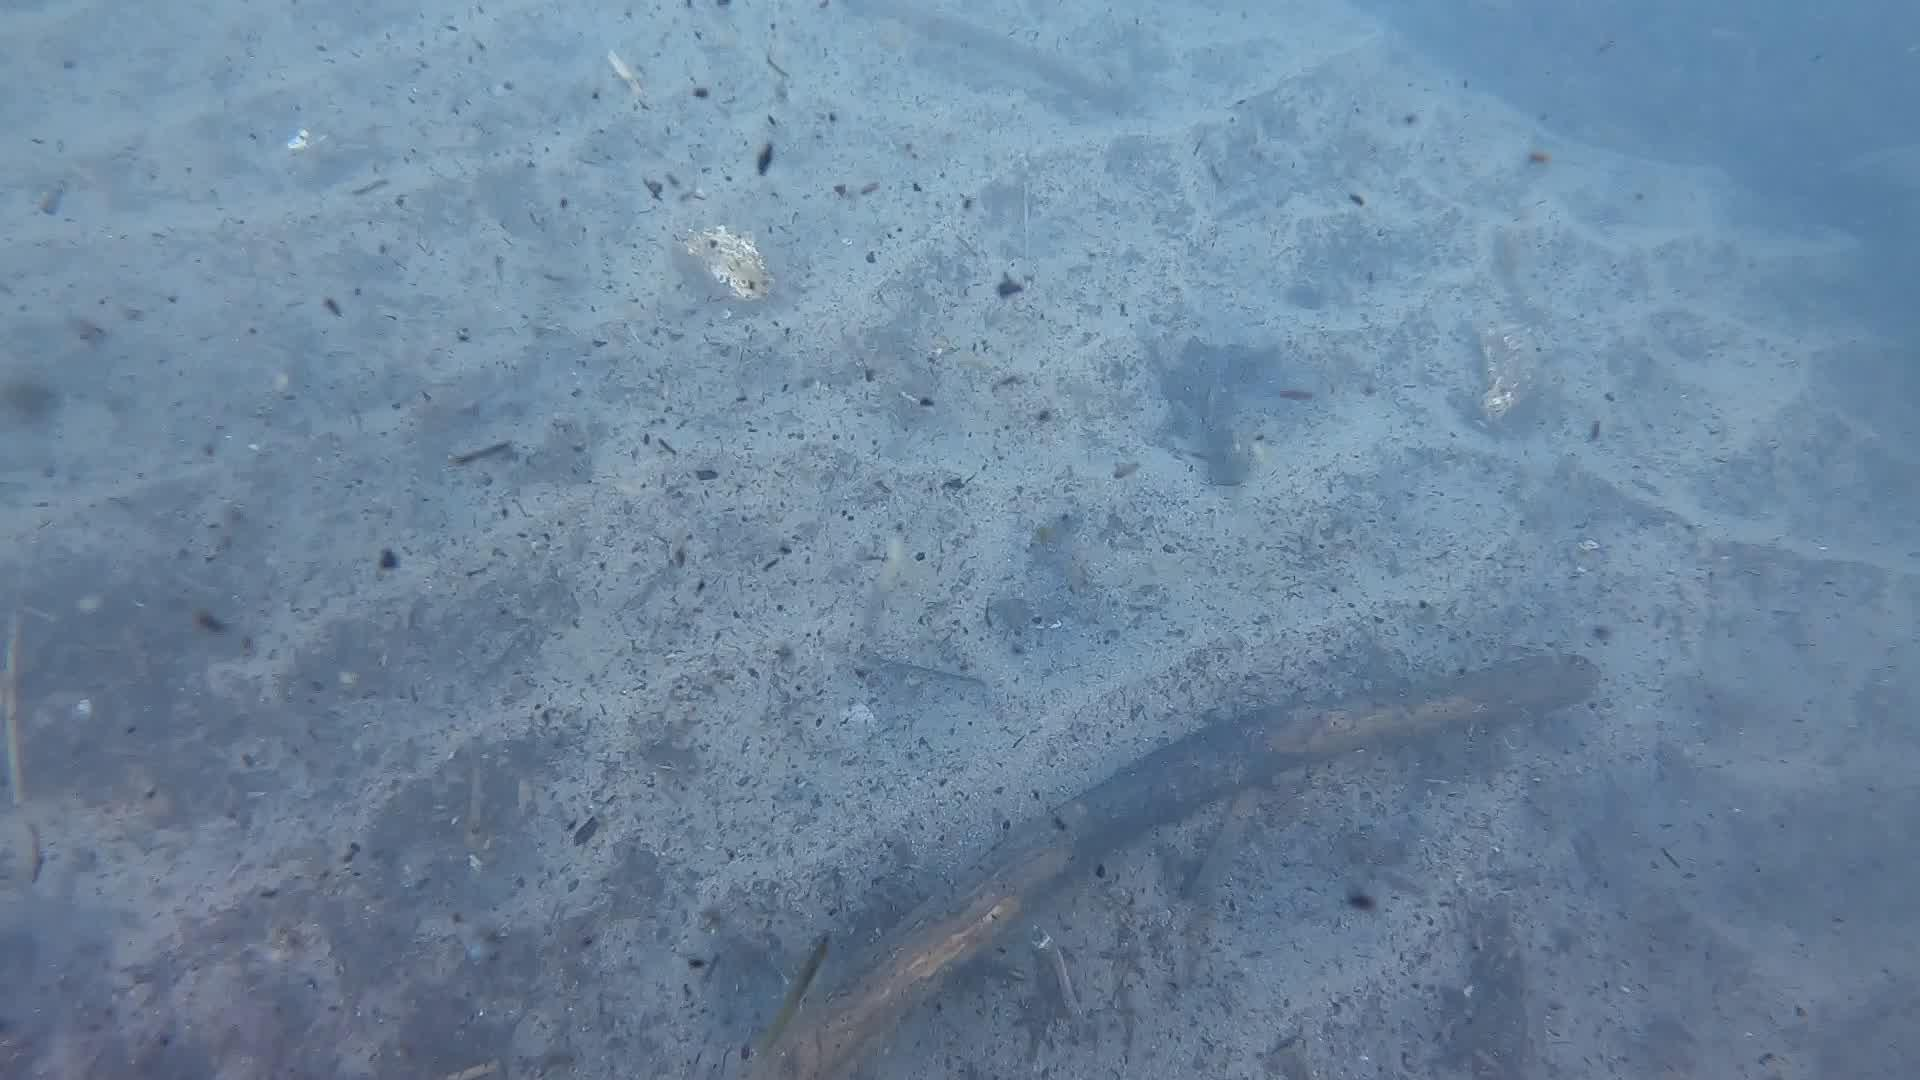wood: (748, 650, 1604, 1080)
